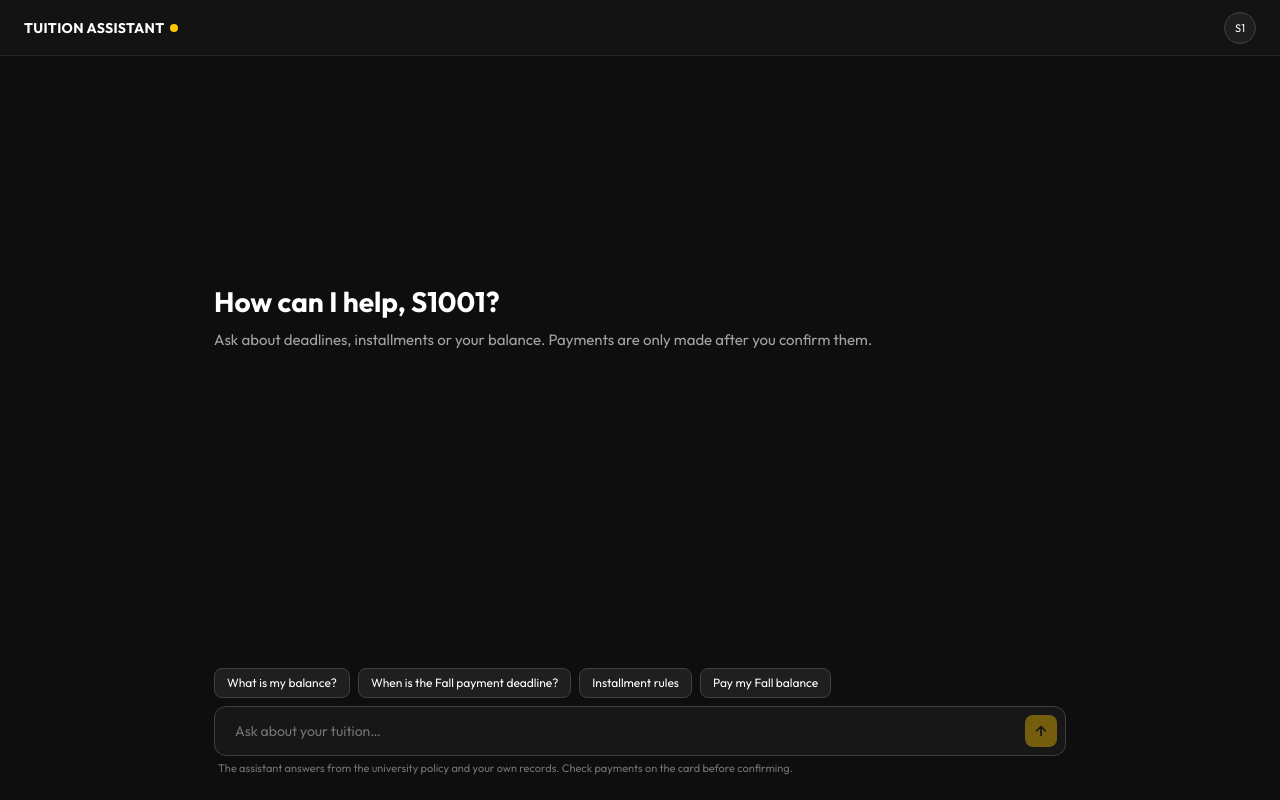
it: chat screen › starts a new agent session when the old one expired
This screenshot has width=1280, height=800.
In the text box named "Message": (624, 731) [235,715,1013,747], type "hello again"
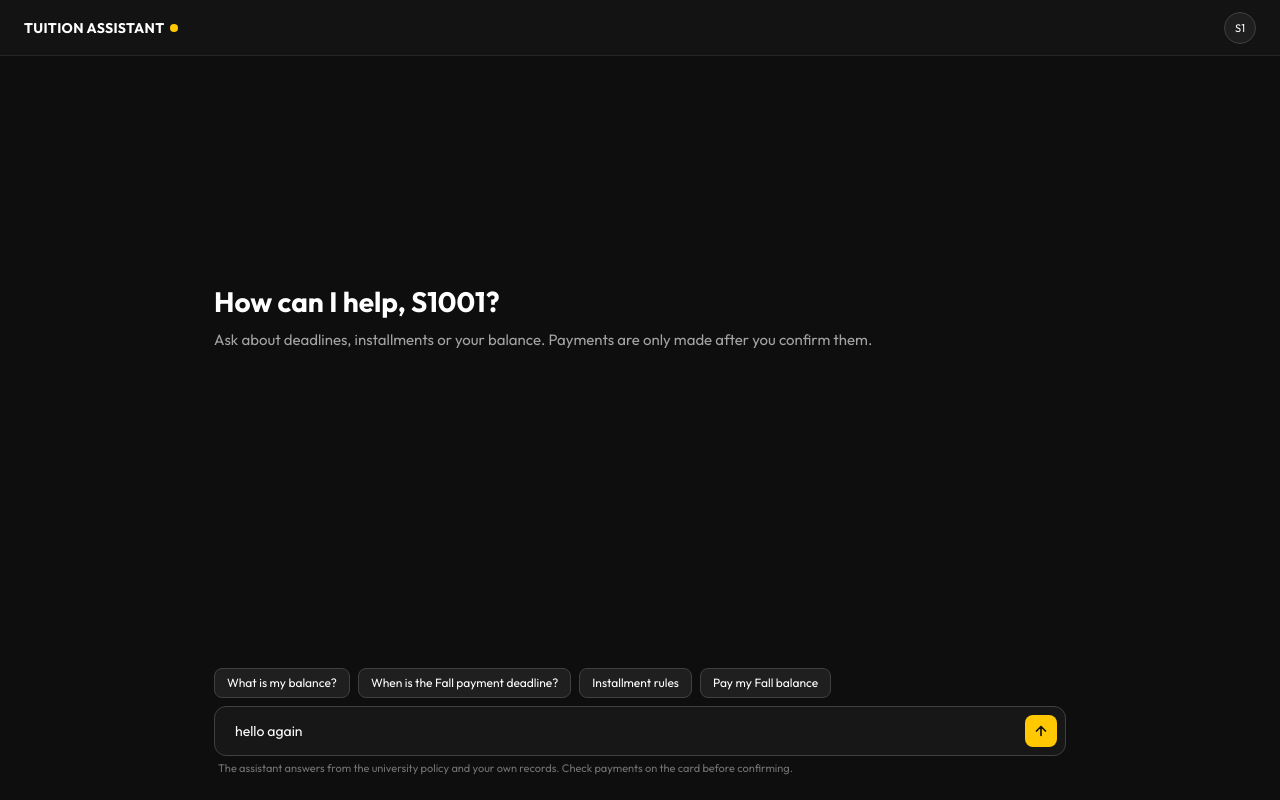
Press Enter in the text box named "Message", box [235,715,1013,747]
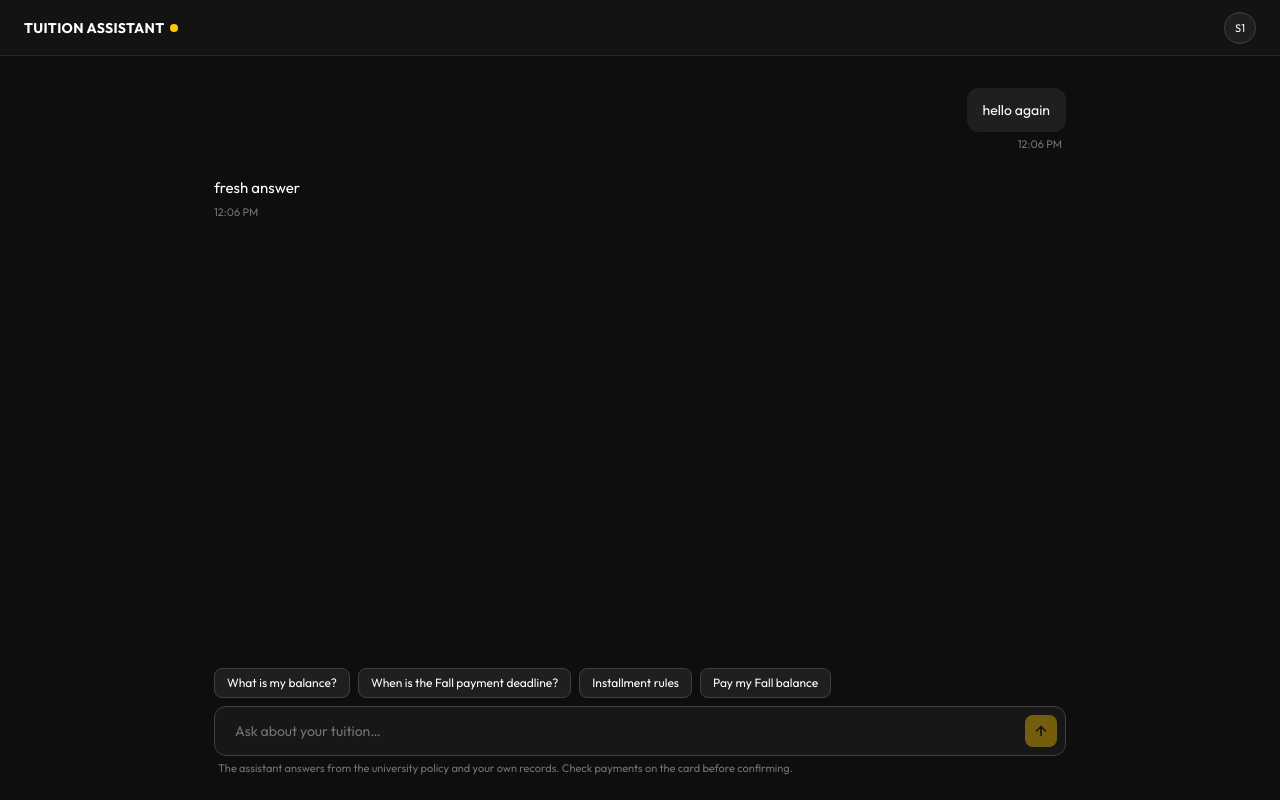
Check: the text "fresh answer" is shown, box [214,178,300,197]
